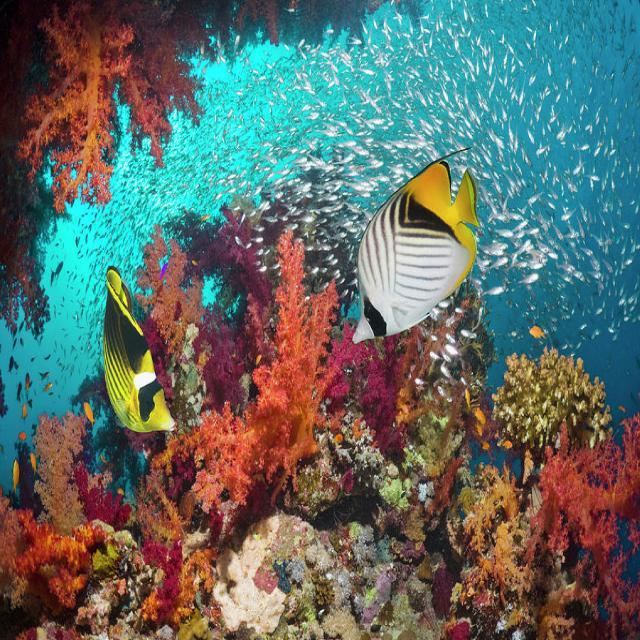ButterflyFish: (336, 162, 492, 346), (94, 261, 178, 446)
